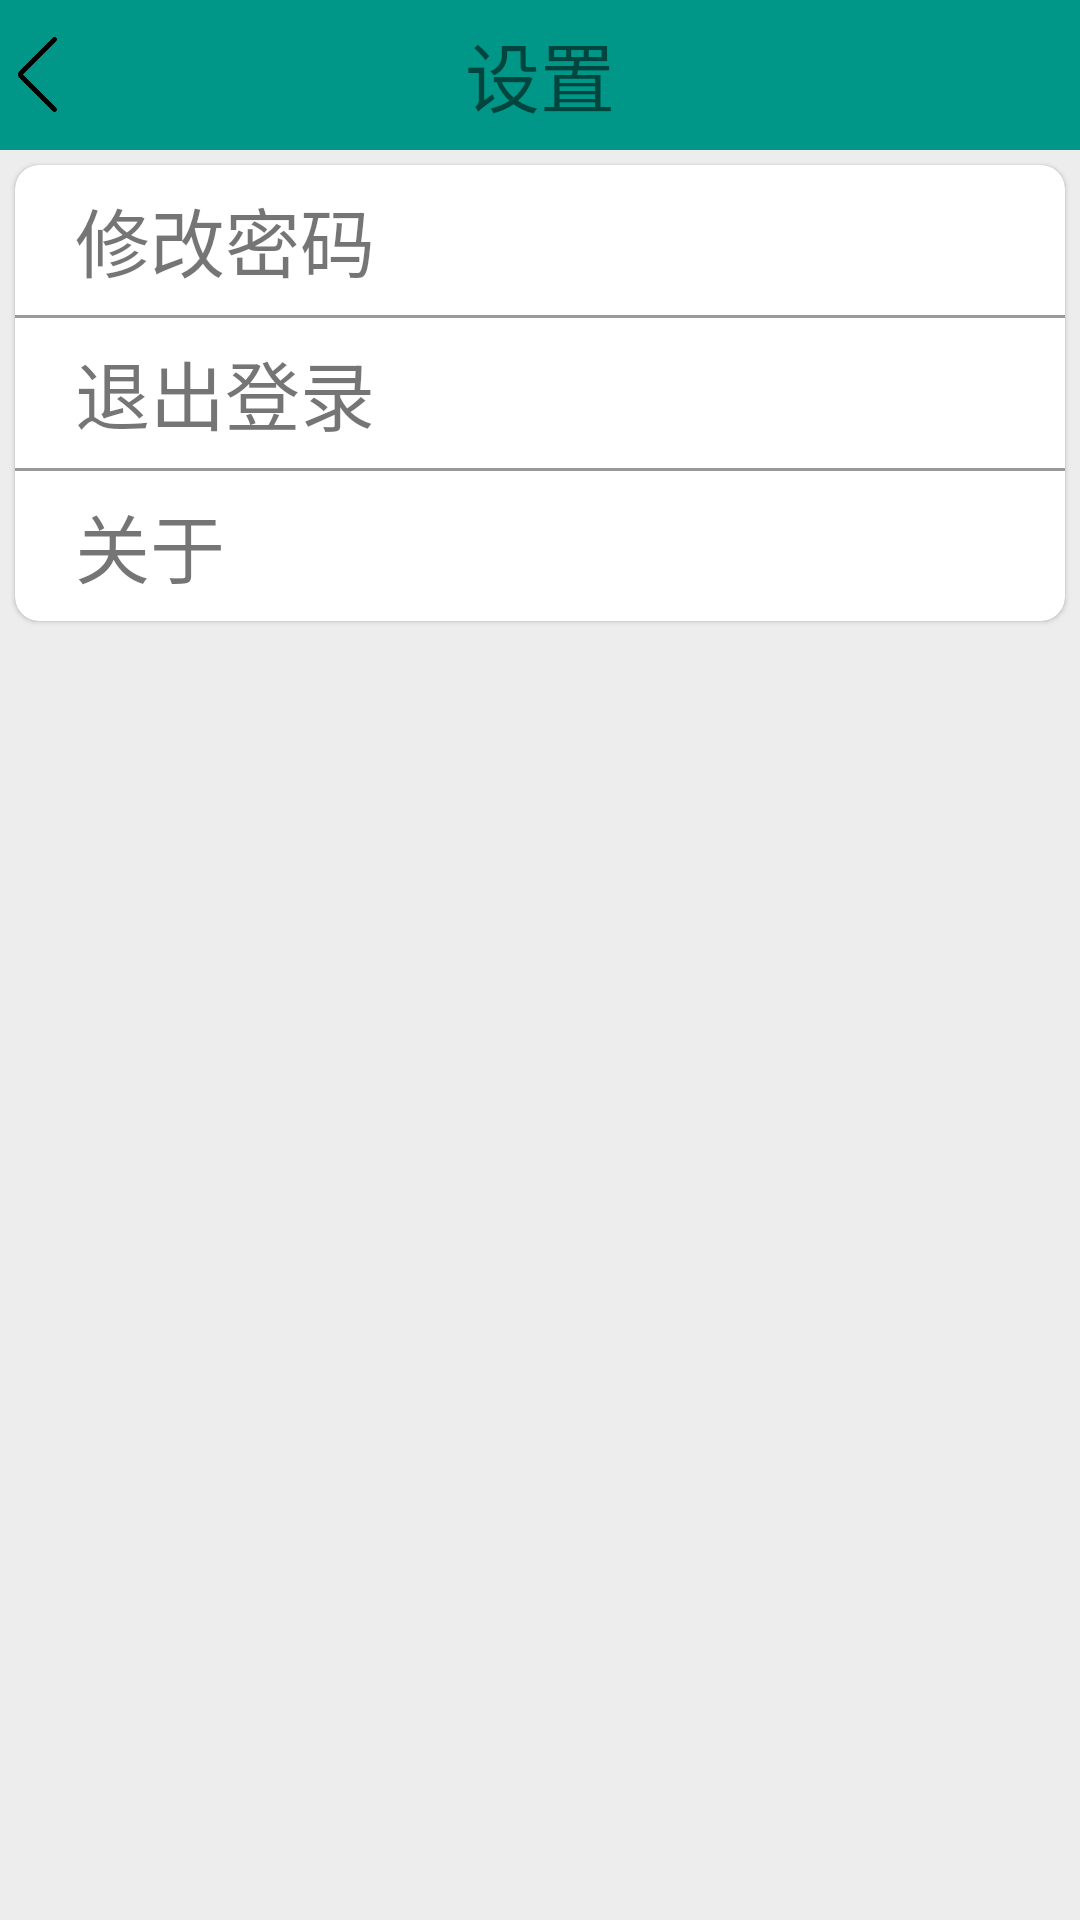

Screen size 1080 × 1920. Icon name, then its box in pixels as (x1, y1, x2, y2):
back: (18, 37, 57, 112)
